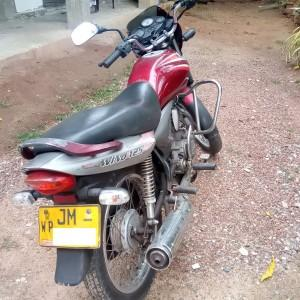motorbike: (12, 1, 223, 300)
